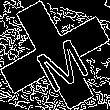M_NW: (22, 21, 88, 89)
